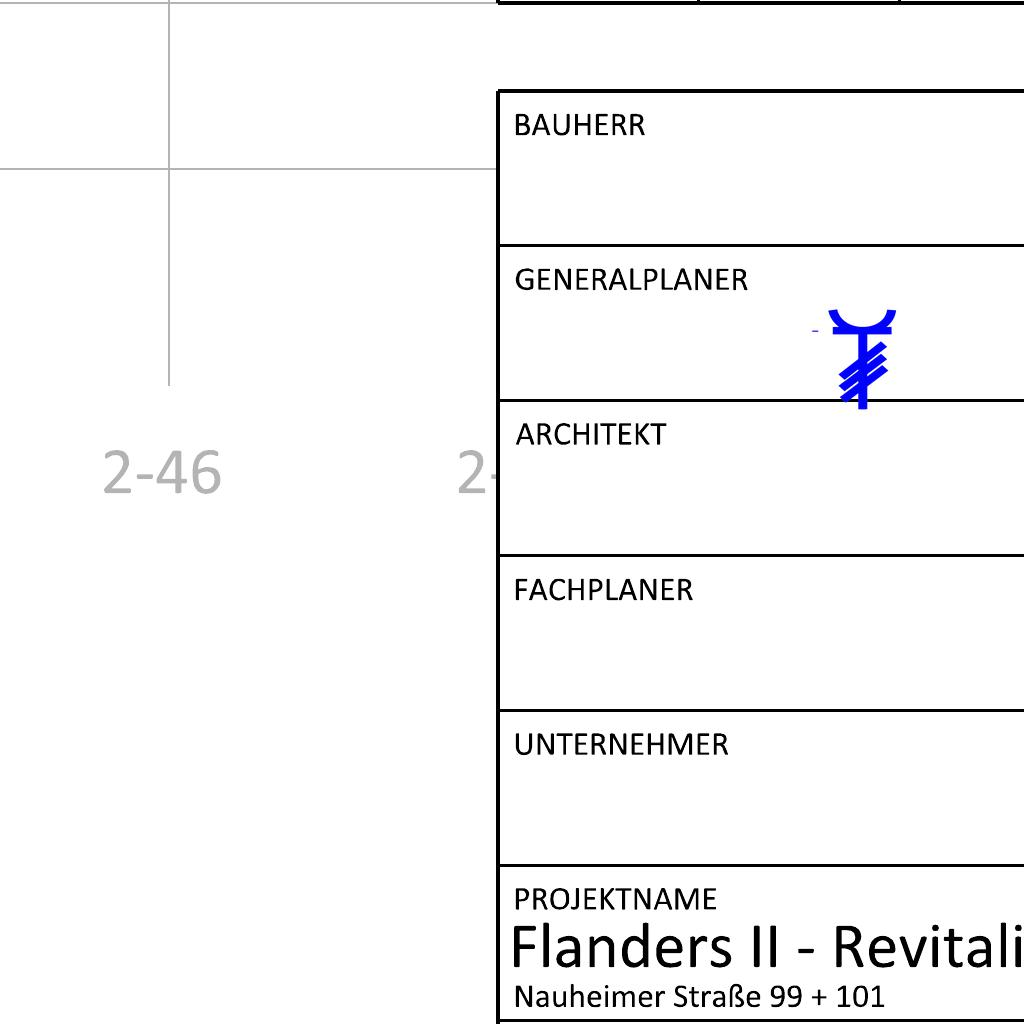CEE_Drehstrom_Steckdose_16_32_A: (809, 307, 899, 411)
